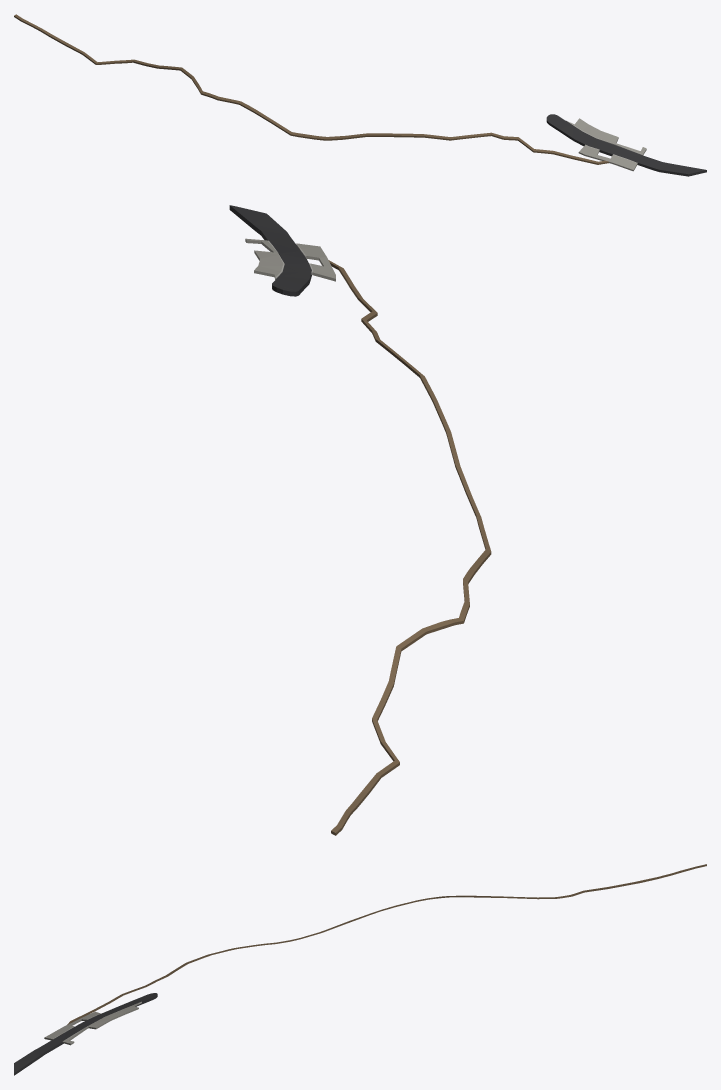
The picture shows the model from 3 angles, top to bottom: view 1: azimuth 30°, elevation 25°; view 2: azimuth 150°, elevation 25°; view 3: azimuth 270°, elevation 25°; orthographic projection. The views are drawn at different scales.
Bounding box in the file's own units: 196 × 16.46 × 292.
